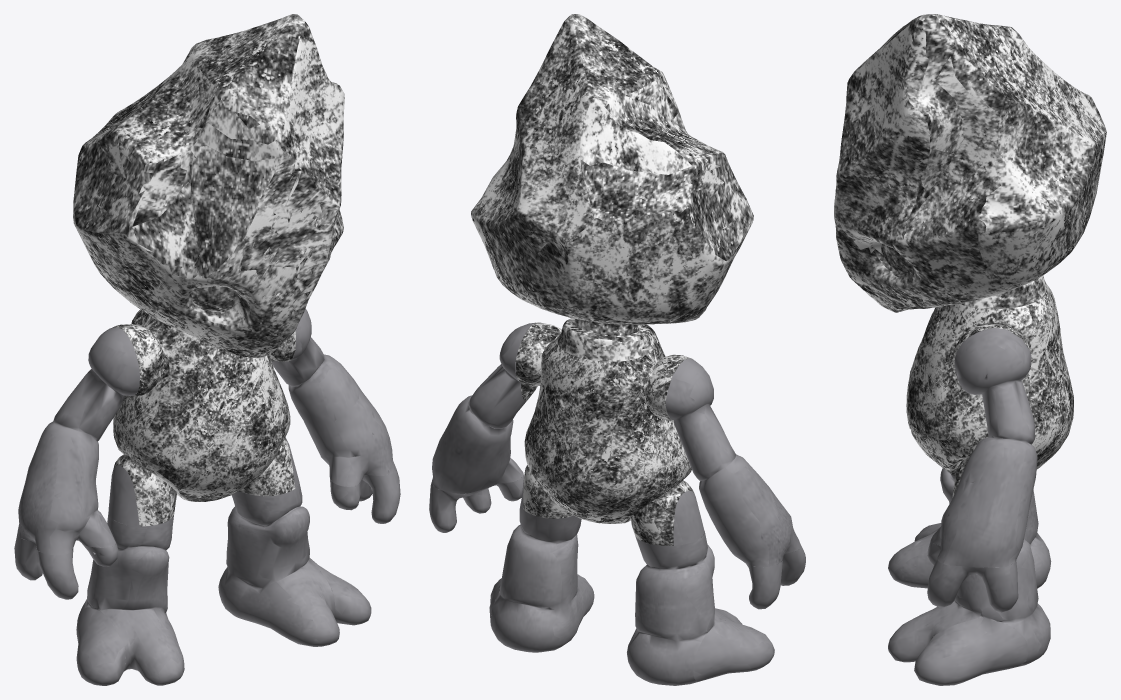
The model's file is 04-crest-wedge--stylized_3d_character.glb.
3 views of the same model, side by side, from view 1: azimuth 30°, elevation 25°; view 2: azimuth 150°, elevation 25°; view 3: azimuth 270°, elevation 25° (orthographic). The views are drawn at different scales.
Parts seen in each view (by area): view 1: head_mesh, arms_mesh, body_mesh, feet_mesh; view 2: head_mesh, arms_mesh, body_mesh, feet_mesh; view 3: head_mesh, arms_mesh, body_mesh, feet_mesh.
Part boxes in pixels (x1,y1,x2,y2): head_mesh: (73,14,344,350); arms_mesh: (14,309,400,685); body_mesh: (112,309,295,526); feet_mesh: (80,482,339,685); head_mesh: (471,14,753,361); arms_mesh: (429,322,805,681); body_mesh: (515,322,694,545); feet_mesh: (490,503,742,685); head_mesh: (834,14,1106,309); arms_mesh: (914,327,1037,685); body_mesh: (871,283,1073,498); feet_mesh: (888,468,1051,666).
Bounding box in the file's own units: 1.83 × 3 × 1.16.
Materials: 4 (4 with a texture image).
